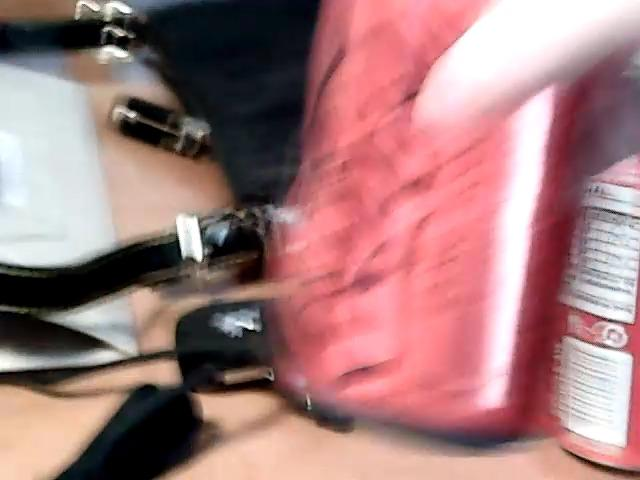coke: (273, 0, 598, 382), (542, 139, 636, 473)
